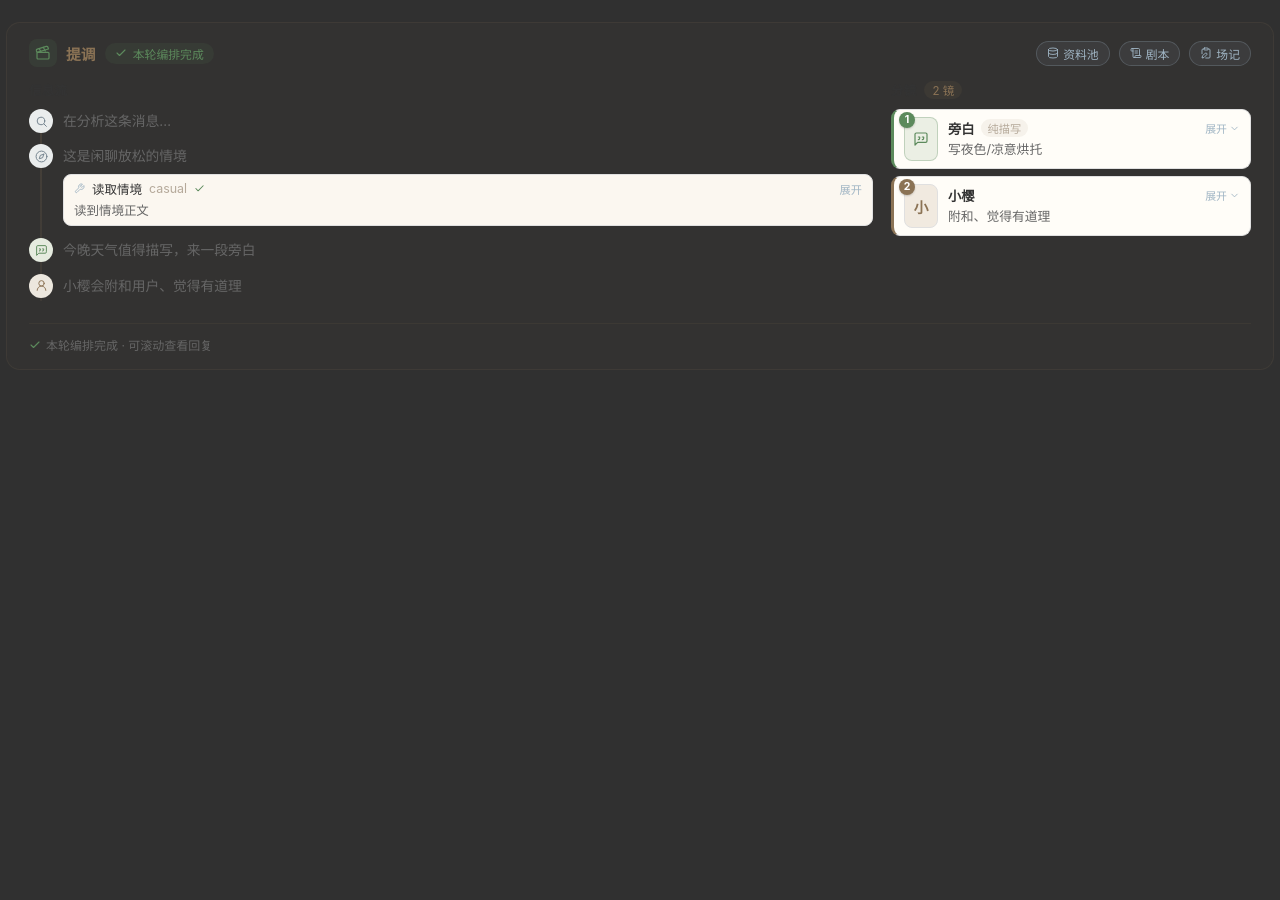
Scenario: TidiaoDirectorStreamBand › 场记（2026-06-29 生·原「state 查看器」·2026-07-10 改中文名·主记录 + 子记录只读） › 始终挂「场记」入口，点击展开只读抽屉，含主记录与子记录分区
What coordinates should you click on to do the following:
click the button with class "tds-entry" showing "场记"
I would click on:
 (1220, 53)
Its box is [1189,40,1251,66].
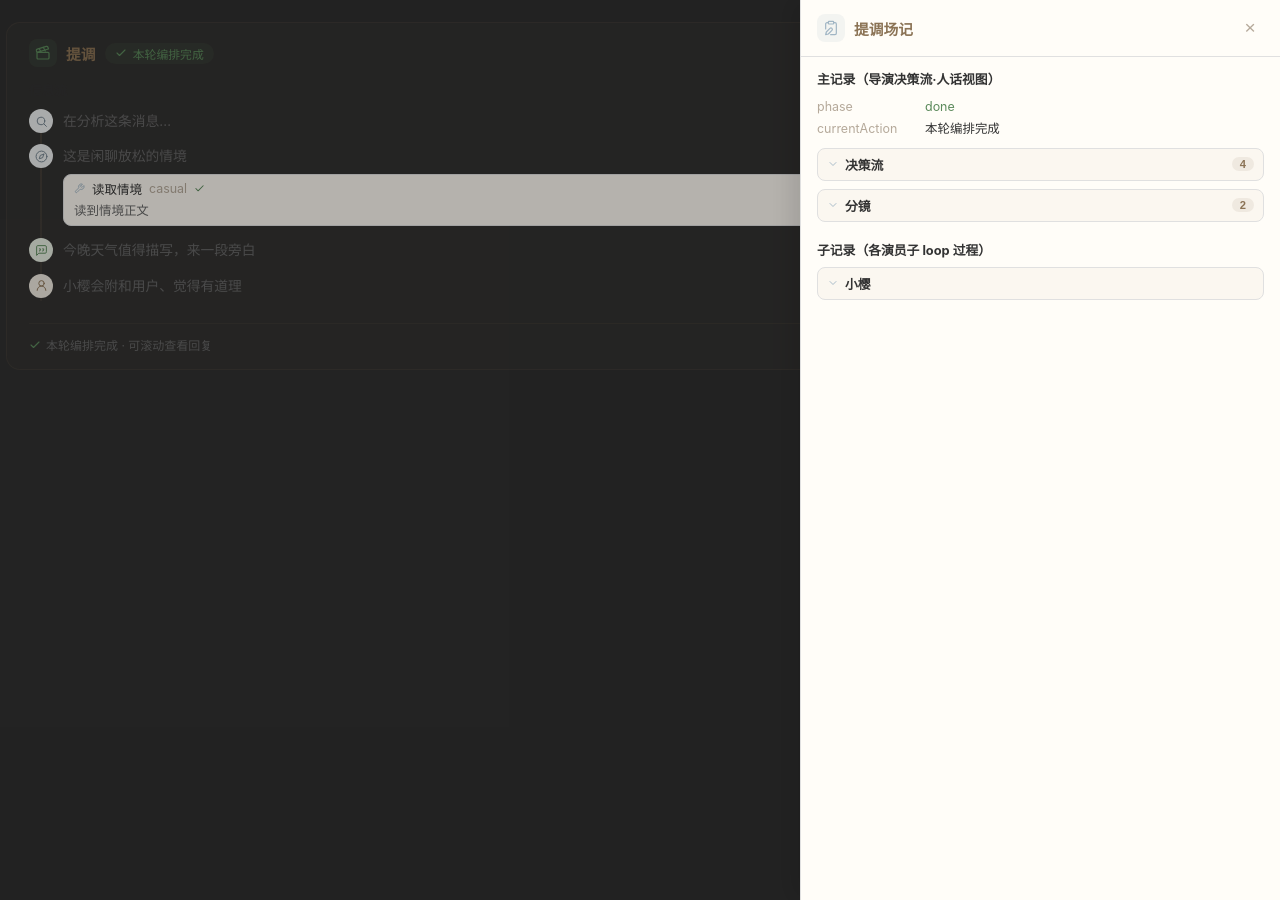
Now the dialog with class "dsi" is shown, box [800,0,1279,899]
Now the text "主记录" is shown, box [817,72,1000,87]
Now the text "子记录" is shown, box [817,243,991,258]
